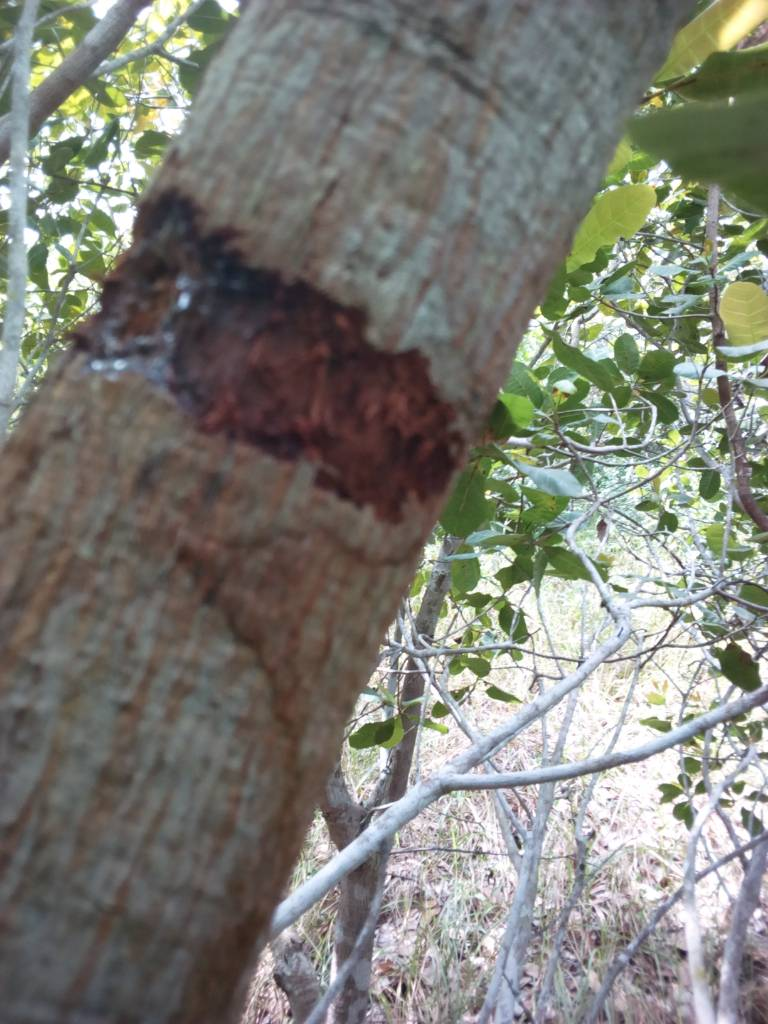ploceadorus ferrugineus: (29, 178, 516, 558)
